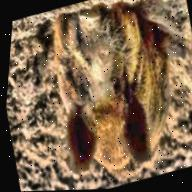boar: (18, 0, 192, 191)
